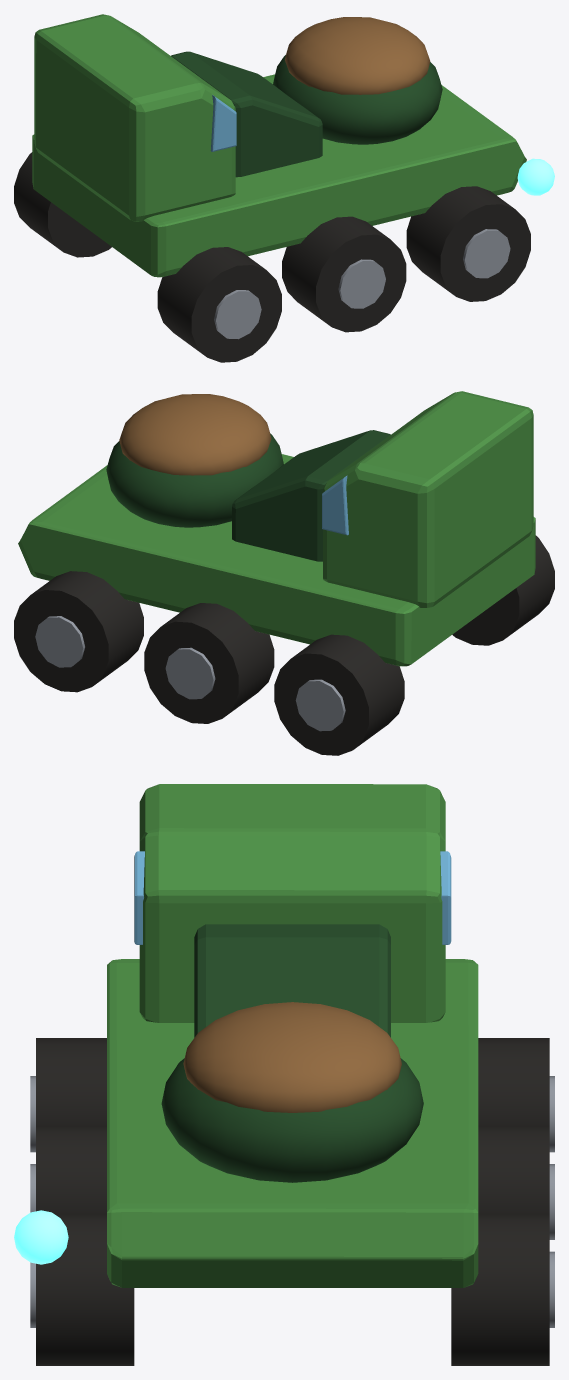
The model's file is dirt_r.glb.
The picture shows the model from 3 angles, top to bottom: view 1: azimuth 30°, elevation 25°; view 2: azimuth 150°, elevation 25°; view 3: azimuth 270°, elevation 25°; orthographic projection. The views are drawn at different scales.
Visible parts, largest first — view 1: deck, cab, dirt, wheel.004, wheel.002, wheel, mount, hopper, wheel.001, hub.004, hub.002, hub (+2 smaller); view 2: deck, cab, dirt, wheel.003, wheel.001, wheel.005, mount, hopper, wheel, hub.005, hub.001, hub.003 (+1 smaller); view 3: deck, cab, dirt, hopper, mount, wheel.005, wheel.004, wheel.003, wheel.001, wheel.002, wheel, lamp (+1 smaller).
Part boxes in pixels (x1,y1,x2,y2): deck: (32,74,526,277); cab: (34,14,235,221); dirt: (285,17,430,94); wheel.004: (406,186,530,301); wheel.002: (282,216,406,332); wheel: (157,247,281,362); mount: (171,51,322,177); hopper: (273,55,442,144); wheel.001: (14,152,111,257); hub.004: (463,229,510,278); hub.002: (338,259,385,308); hub: (214,290,261,339); deck: (18,454,535,666); cab: (323,391,533,607); dirt: (119,394,271,475); wheel.003: (144,603,274,723); wheel.001: (274,634,404,755); wheel.005: (14,571,143,692); mount: (232,430,390,561); hopper: (106,433,283,527); wheel: (452,535,554,645); hub.005: (35,616,84,667); hub.001: (295,679,345,731); hub.003: (165,647,215,699); deck: (107,959,478,1287); cab: (139,784,445,1022); dirt: (183,1002,401,1112); hopper: (161,1058,423,1182); mount: (194,924,390,1037); wheel.005: (451,1213,549,1365); wheel.004: (36,1213,134,1365); wheel.003: (478,1125,549,1213); wheel.001: (478,1038,549,1125); wheel.002: (36,1125,106,1213); wheel: (36,1038,106,1125); lamp: (14,1210,68,1264).
Size of the model in its own units: 11.7 by 7.2 by 9.9.
